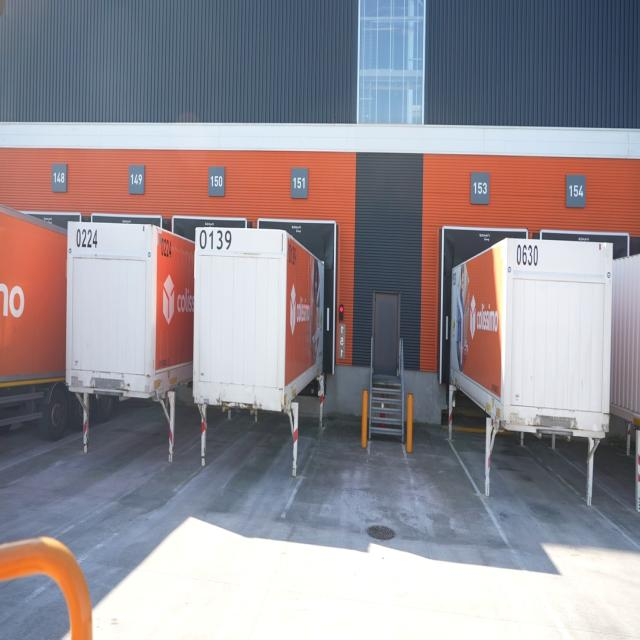Code: (196, 225, 232, 253), (72, 223, 100, 254), (512, 240, 540, 268), (157, 233, 174, 260)
